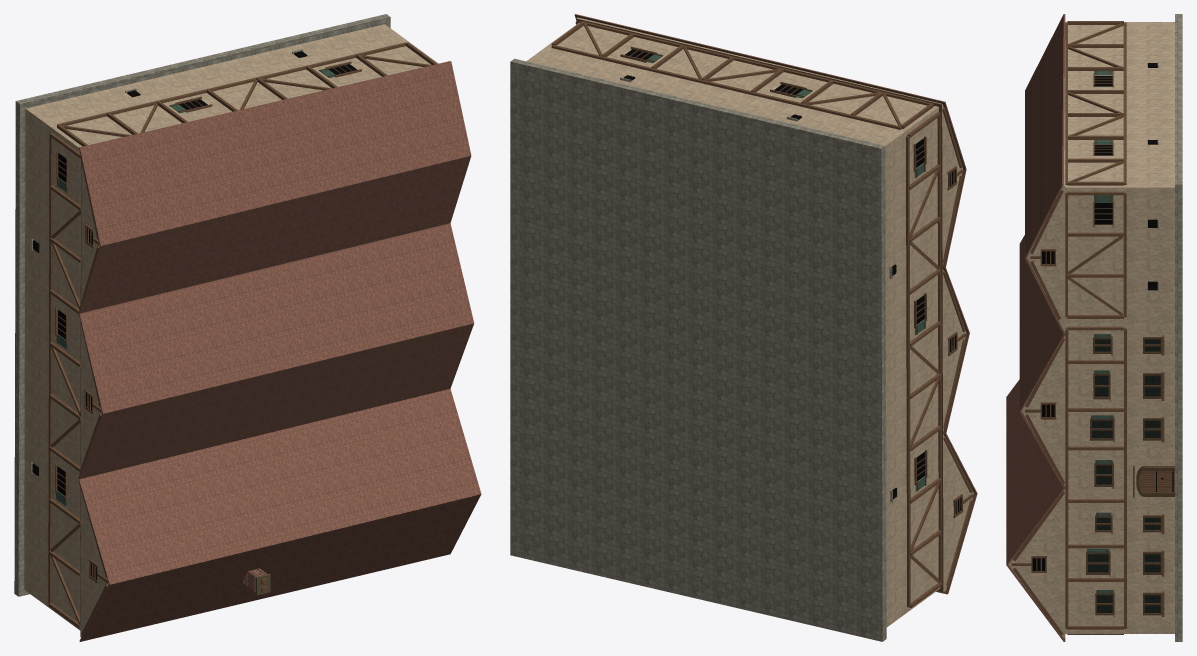
File: SM_GLMedieval_NorthMarketDetail_east_31c9ff1a.obj
3 renders of one model, left to right at view 1: azimuth 30°, elevation 25°; view 2: azimuth 150°, elevation 25°; view 3: azimuth 270°, elevation 25°, orthographic. The views are drawn at different scales.
Size of the model in its own units: 20.87 by 26.63 by 9.25.
Materials: 11 (7 with a texture image).
